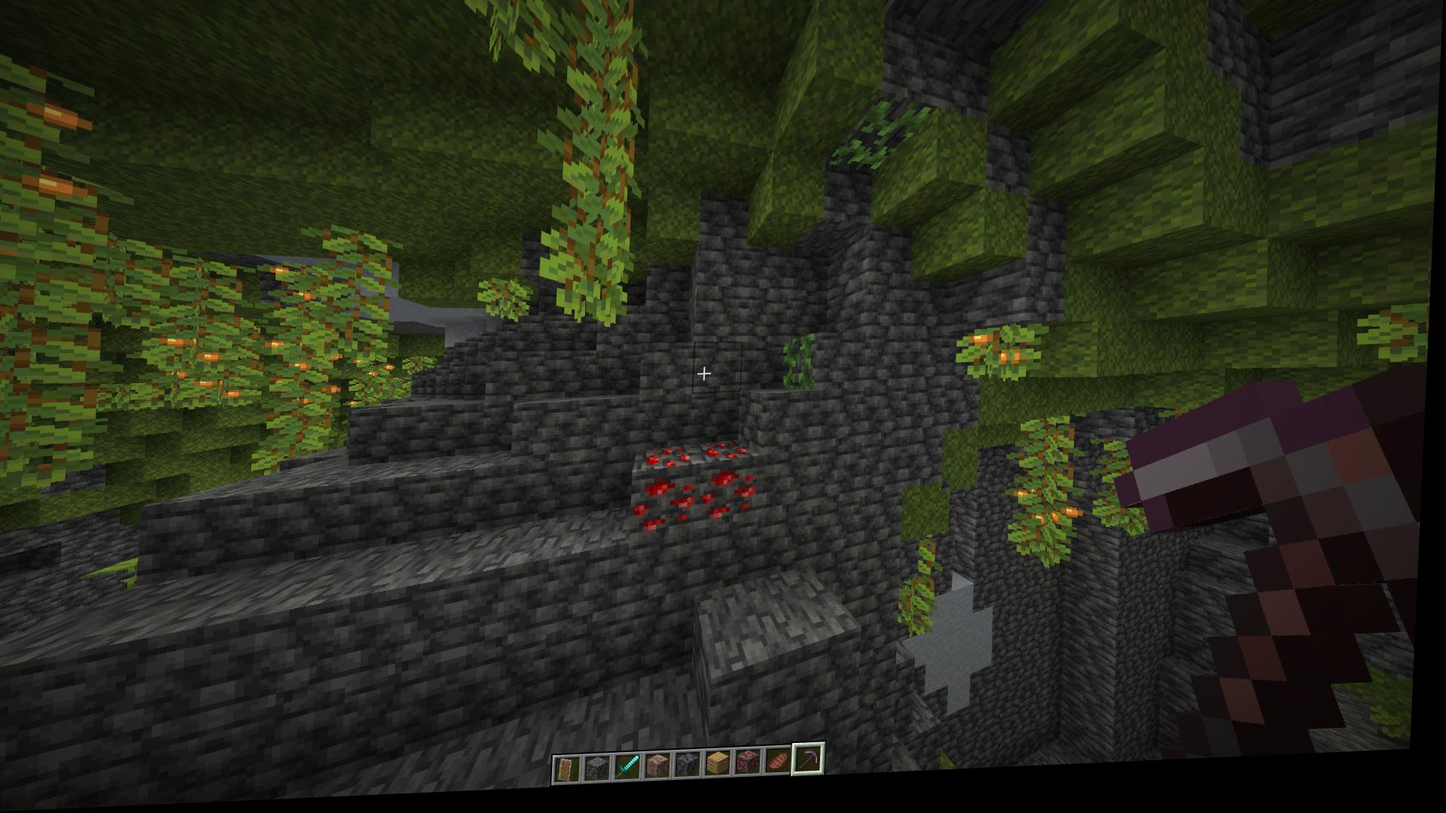redstone ore: (634, 471, 709, 538), (707, 466, 764, 533), (640, 446, 700, 477), (707, 444, 755, 476)
